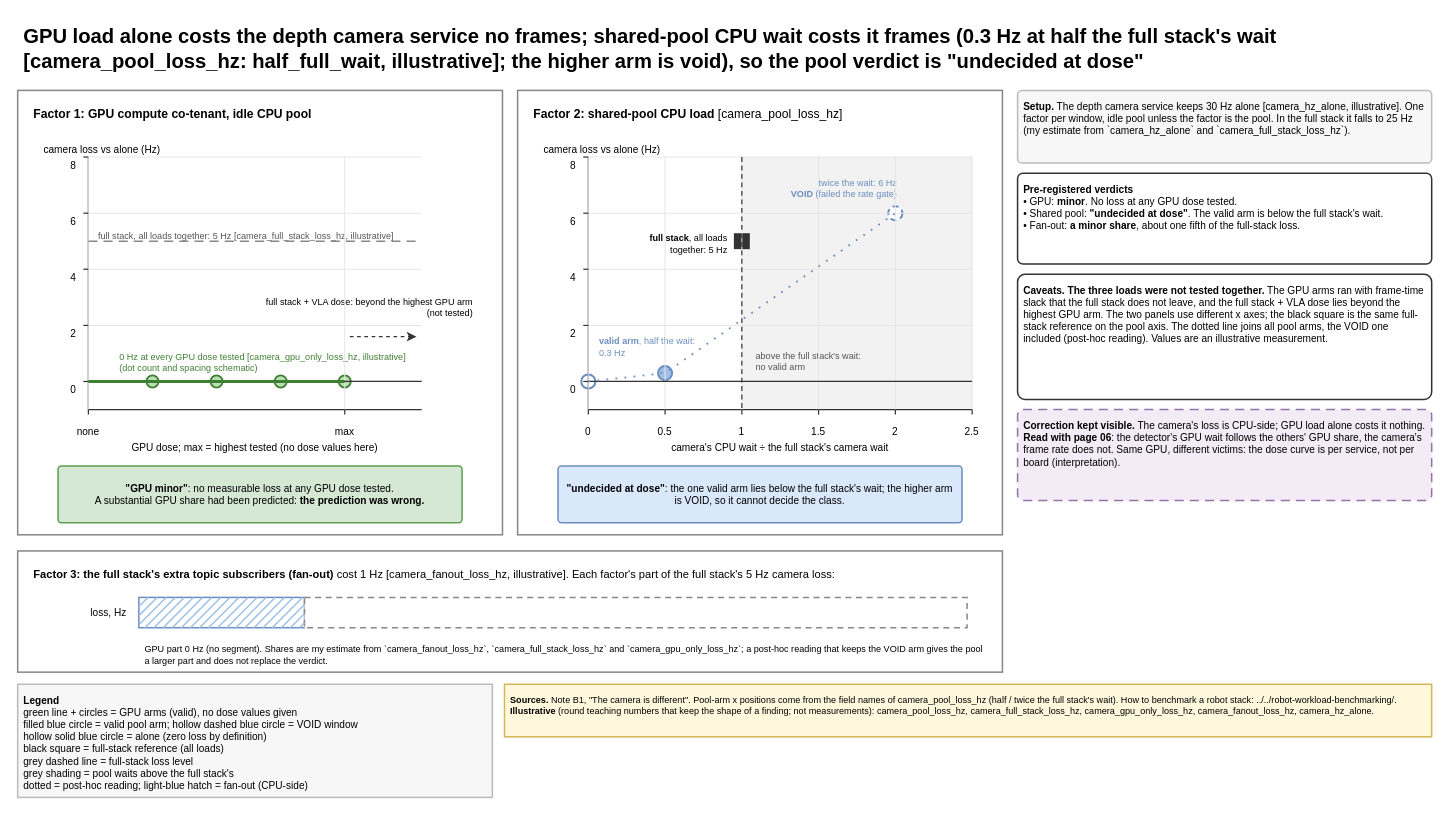
Image size: 1450x815. Some labels were removed from this diagram. The centre of each missing label's shape, as x and y in pixels:
"fan-out 1 Hz, share 0.2" goes at point (221, 612).
"rest 4 Hz: not attributed (pool share undecided; loads not tested together)" goes at point (635, 612).
